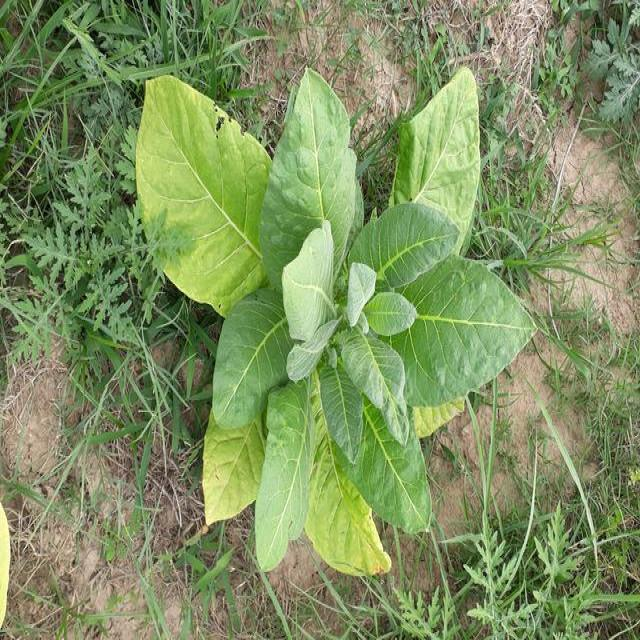crop: (137, 61, 528, 566)
